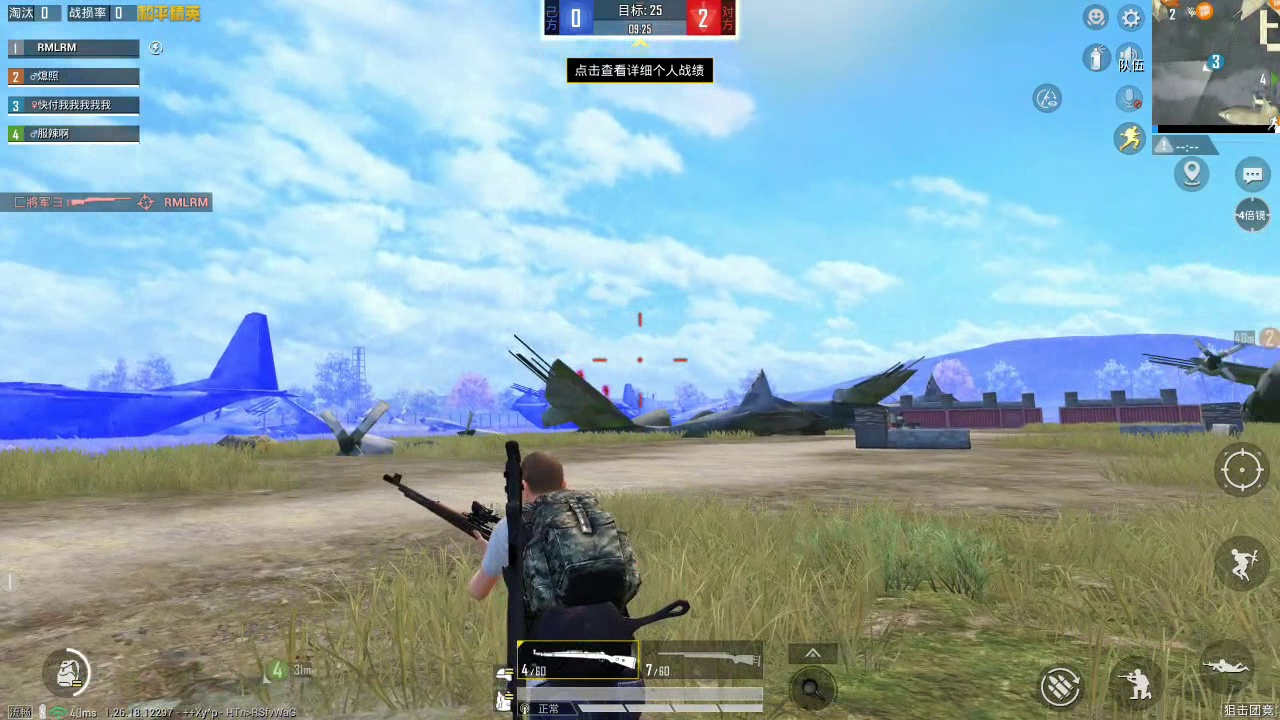enemy: (601, 383, 611, 400), (575, 364, 585, 378)
